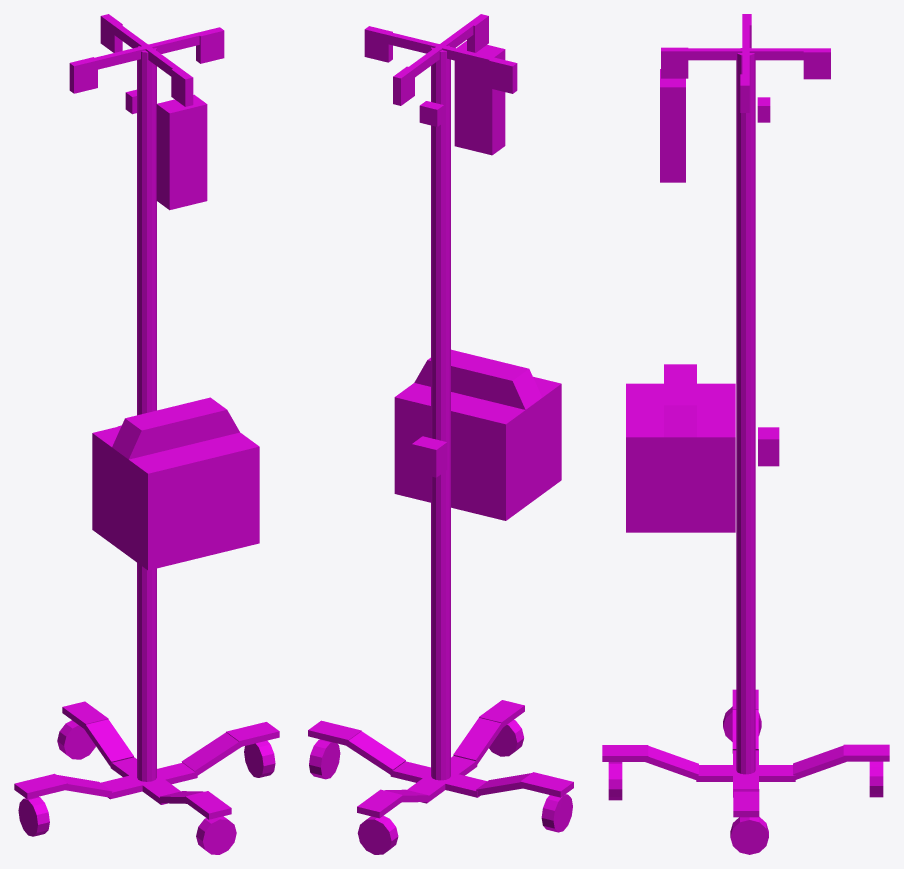
File: SM_IVDripCollider.fbx
3 views of the same model, side by side, from view 1: azimuth 30°, elevation 25°; view 2: azimuth 150°, elevation 25°; view 3: azimuth 270°, elevation 25° (orthographic).
Visible parts, largest first — view 1: IVDripCollision; view 2: IVDripCollision; view 3: IVDripCollision.
Part boxes in pixels (x1,y1,x2,y2): IVDripCollision: [14, 14, 279, 854]; IVDripCollision: [308, 14, 573, 854]; IVDripCollision: [602, 14, 889, 854].
Size of the model in its own units: 76.23 by 219 by 76.23.
